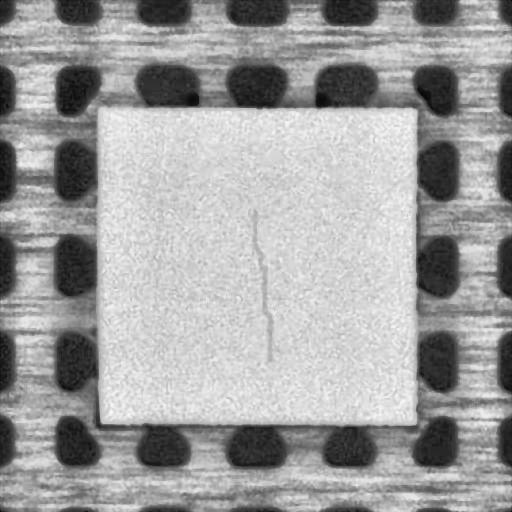DIE_CRACK: (249, 210, 275, 360)
